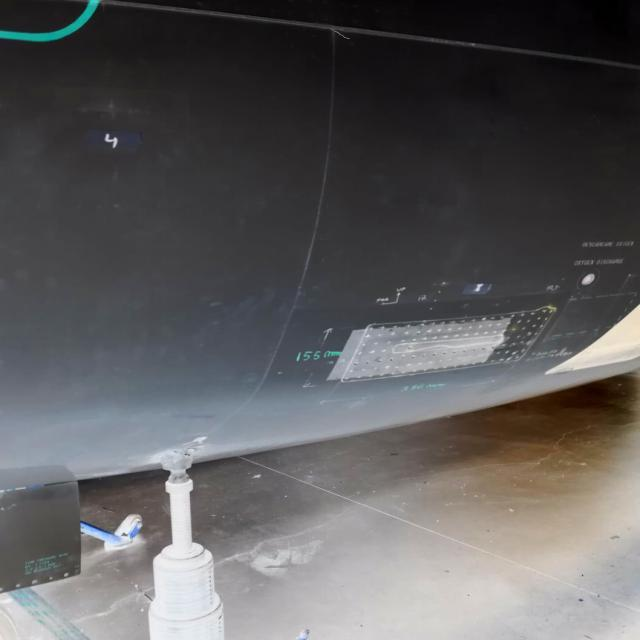crack: (330, 30, 357, 47)
